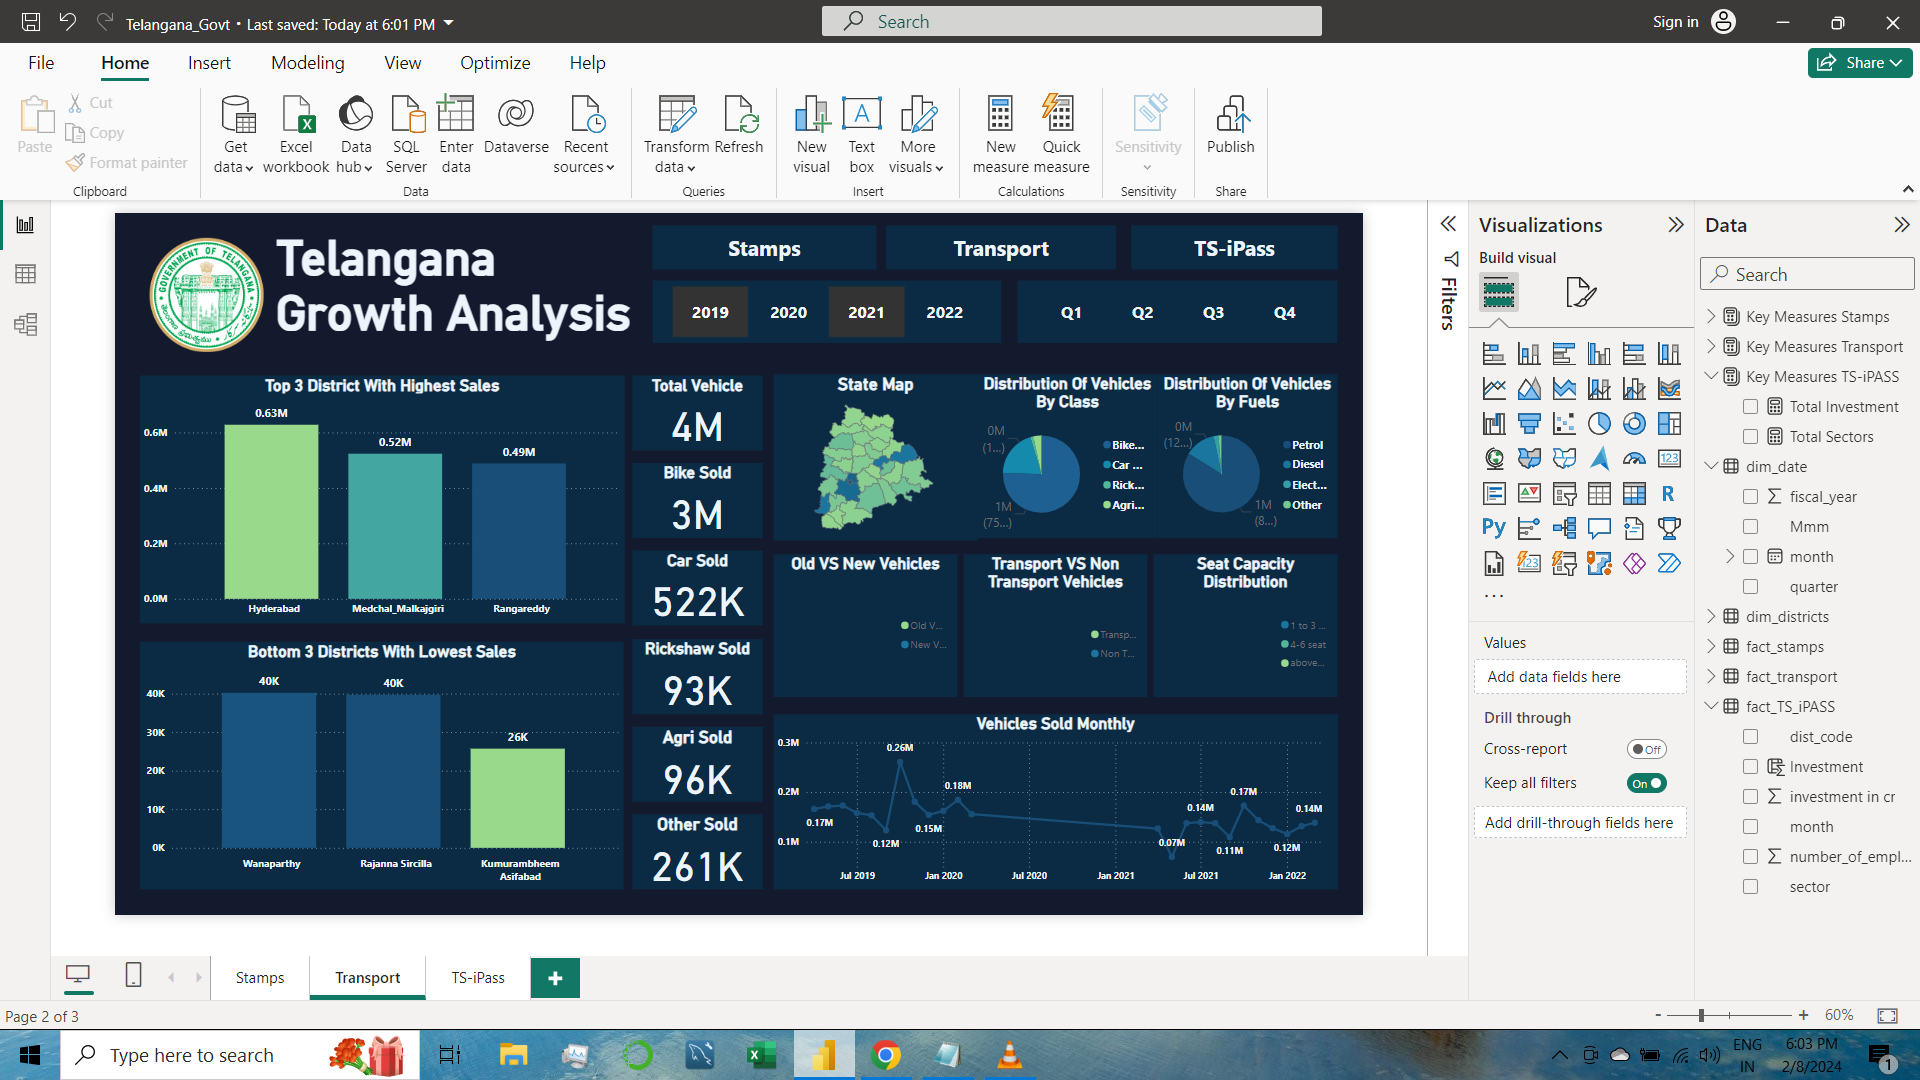

What the dashboard file says about the page in this screenshot:
{"tool":"powerbi","page":{"name":"Transport","canvas":[1664,936],"ordinal":1},"visuals":[{"type":"slicer","fields":{"Values":["dim_date.fiscal_year"]},"box":[716.7,90,465,83.3],"z":0},{"type":"slicer","fields":{"Values":["dim_date.quarter"]},"box":[1203.3,90,426.7,83.3],"z":1000},{"type":"clusteredColumnChart","title":"Top 3 District With Highest Sales","fields":{"Category":["dim_districts.district"],"Y":["Key Measures Transport.Total Vehicle Sold"]},"box":[34,216,646,330],"z":2000},{"type":"clusteredColumnChart","title":"Bottom 3 Districts With Lowest Sales","fields":{"Category":["dim_districts.district"],"Y":["Key Measures Transport.Total Vehicle Sold"]},"box":[33.3,571.7,645,330],"z":3000},{"type":"lineChart","title":"Vehicles Sold Monthly","fields":{"Category":["dim_date.month"],"Y":["Key Measures Transport.Total Vehicle Sold"]},"box":[878.3,668.3,751.7,233.3],"z":4000},{"type":"donutChart","title":"Old VS New Vehicles","fields":{"Y":["Key Measures Transport.Old Vehicles","Key Measures Transport.New Vehicles"]},"box":[878.3,455,245,190],"z":5000},{"type":"pieChart","title":"Distribution Of Vehicles By Class","fields":{"Y":["Key Measures Transport.Bike sOLD","Key Measures Transport.Car Sold","Key Measures Transport.Rickshaw Sold","Key Measures Transport.Agriculture Sold"]},"box":[1150,215,240,218.8],"z":6000},{"type":"card","title":"Other Sold","fields":{"Values":["Key Measures Transport.Other Vechile Sold"]},"box":[690,801.7,173.3,100],"z":7000},{"type":"card","title":"Agri Sold","fields":{"Values":["Key Measures Transport.Agriculture Sold"]},"box":[690,684.7,173.3,100],"z":8000},{"type":"card","title":"Rickshaw Sold","fields":{"Values":["Key Measures Transport.Rickshaw Sold"]},"box":[690,567.7,173.3,100],"z":9000},{"type":"card","title":"Car Sold","fields":{"Values":["Key Measures Transport.Used Vehicles Sold"]},"box":[690,450.7,173.3,100],"z":10000},{"type":"shapeMap","title":"State Map","fields":{"Category":["dim_districts.district"],"Value":["Key Measures Transport.Total Vehicle Sold"]},"box":[878.3,215,271.7,221.7],"z":11000},{"type":"card","title":"Bike Sold","fields":{"Values":["Key Measures Transport.New Vehicles Sold"]},"box":[690,333.7,173.3,100],"z":12000},{"type":"card","title":"Total Vehicle ","fields":{"Values":["Key Measures Transport.Total Vehicle Sold"]},"box":[690,216.7,173.3,100],"z":13000},{"type":"image","box":[33.3,28.3,176.7,161.7],"z":14000},{"type":"textbox","box":[210,16.7,506.7,173.3],"z":15000},{"type":"actionButton","box":[716.7,16.7,298.3,58.3],"z":16000},{"type":"actionButton","box":[1355,16.7,275,58.3],"z":17000},{"type":"actionButton","box":[1028.3,16.7,306.7,58.3],"z":18000},{"type":"donutChart","title":"Transport VS Non Transport Vehicles","fields":{"Y":["Key Measures Transport.Transport Vehicles","Key Measures Transport.Non Transport"]},"box":[1131.7,455,245,190],"z":19000},{"type":"donutChart","title":"Seat Capacity Distribution","fields":{"Y":["Key Measures Transport.1 to 3 seat","Key Measures Transport.4-6 seat","Key Measures Transport.above 6 seat"]},"box":[1385,455,245,190],"z":20000},{"type":"pieChart","title":"Distribution Of Vehicles By Fuels","fields":{"Y":["Key Measures Transport.Petrol","Key Measures Transport.Diesel","Key Measures Transport.Electric","Key Measures Transport.Other Fuel type"]},"box":[1390,215,240,218.3],"z":21000}]}

Visuals, with their boxes on the page's 1664x936 design canvas (x1, y1, x2, y2). These are canvas units, not pixel positions in the 1920x1080 screenshot, which may show the page scaled, cropped or inside an application window:
slicer - dim_date.fiscal_year: BBox(717, 90, 1182, 173)
slicer - dim_date.quarter: BBox(1203, 90, 1630, 173)
"Top 3 District With Highest Sales" clusteredColumnChart: BBox(34, 216, 680, 546)
"Bottom 3 Districts With Lowest Sales" clusteredColumnChart: BBox(33, 572, 678, 902)
"Vehicles Sold Monthly" lineChart: BBox(878, 668, 1630, 902)
"Old VS New Vehicles" donutChart: BBox(878, 455, 1123, 645)
"Distribution Of Vehicles By Class" pieChart: BBox(1150, 215, 1390, 434)
"Other Sold" card: BBox(690, 802, 863, 902)
"Agri Sold" card: BBox(690, 685, 863, 785)
"Rickshaw Sold" card: BBox(690, 568, 863, 668)
"Car Sold" card: BBox(690, 451, 863, 551)
"State Map" shapeMap: BBox(878, 215, 1150, 437)
"Bike Sold" card: BBox(690, 334, 863, 434)
"Total Vehicle " card: BBox(690, 217, 863, 317)
image: BBox(33, 28, 210, 190)
textbox: BBox(210, 17, 717, 190)
actionButton: BBox(717, 17, 1015, 75)
actionButton: BBox(1355, 17, 1630, 75)
actionButton: BBox(1028, 17, 1335, 75)
"Transport VS Non Transport Vehicles" donutChart: BBox(1132, 455, 1377, 645)
"Seat Capacity Distribution" donutChart: BBox(1385, 455, 1630, 645)
"Distribution Of Vehicles By Fuels" pieChart: BBox(1390, 215, 1630, 433)
